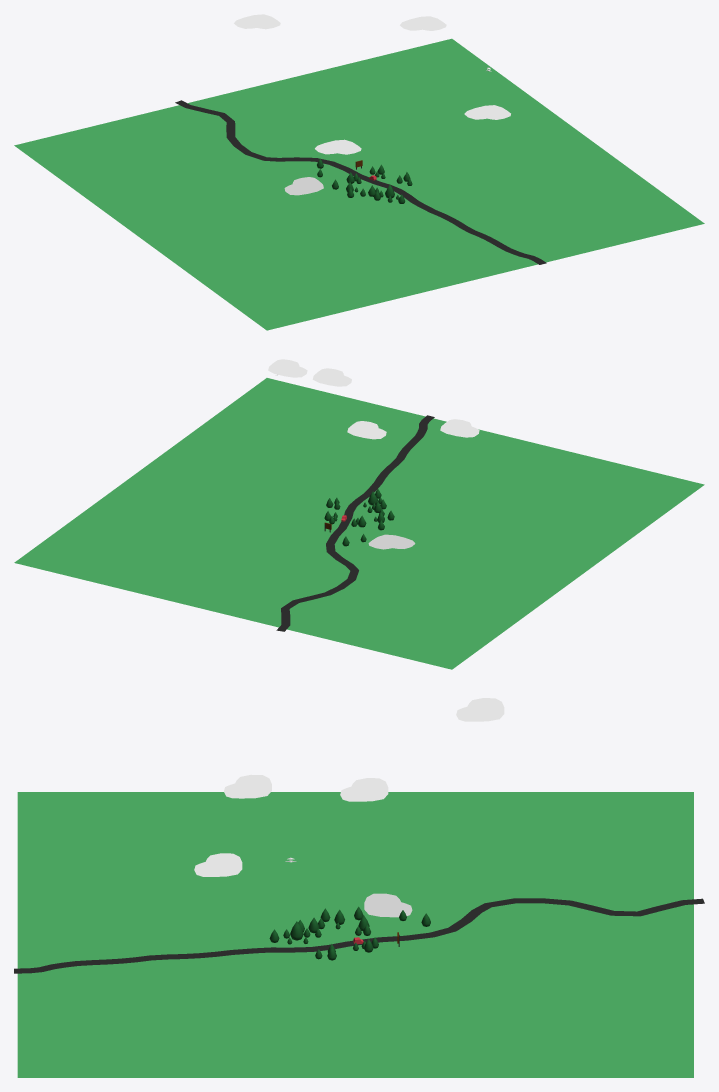
File: route-foret.glb
The picture shows the model from 3 angles, top to bottom: view 1: azimuth 30°, elevation 25°; view 2: azimuth 150°, elevation 25°; view 3: azimuth 270°, elevation 25°; orthographic projection. The views are drawn at different scales.
Visible parts, largest first — view 1: SOL.001, ROUTE.001, NUAGE, NUAGE.002, NUAGE.001, NUAGE.003, LAC; view 2: SOL.001, ROUTE.001, LAC, NUAGE.001, NUAGE.002, NUAGE.003, NUAGE; view 3: SOL.001, ROUTE.001, NUAGE, NUAGE.001, NUAGE.002, NUAGE.003, LAC.
Part boxes in pixels (box(x1,y1,x2,y2)): SOL.001: box(14, 38, 704, 330); ROUTE.001: box(175, 100, 546, 264); NUAGE: box(464, 105, 510, 119); NUAGE.002: box(234, 14, 280, 29); NUAGE.001: box(400, 16, 446, 30); NUAGE.003: box(315, 139, 361, 154); LAC: box(284, 177, 323, 195); SOL.001: box(14, 378, 704, 669); ROUTE.001: box(276, 415, 434, 631); LAC: box(368, 534, 415, 549); NUAGE.001: box(268, 359, 307, 377); NUAGE.002: box(347, 421, 386, 439); NUAGE.003: box(440, 419, 479, 437); NUAGE: box(312, 368, 351, 386); SOL.001: box(17, 792, 693, 1077); ROUTE.001: box(14, 898, 704, 973); NUAGE: box(194, 853, 242, 876); NUAGE.001: box(340, 778, 388, 801); NUAGE.002: box(456, 698, 504, 721); NUAGE.003: box(224, 774, 271, 798); LAC: box(364, 893, 412, 917).
Bounding box in the file's own units: 39.89 × 12.31 × 40.74.
Materials: 2 (1 with a texture image).
